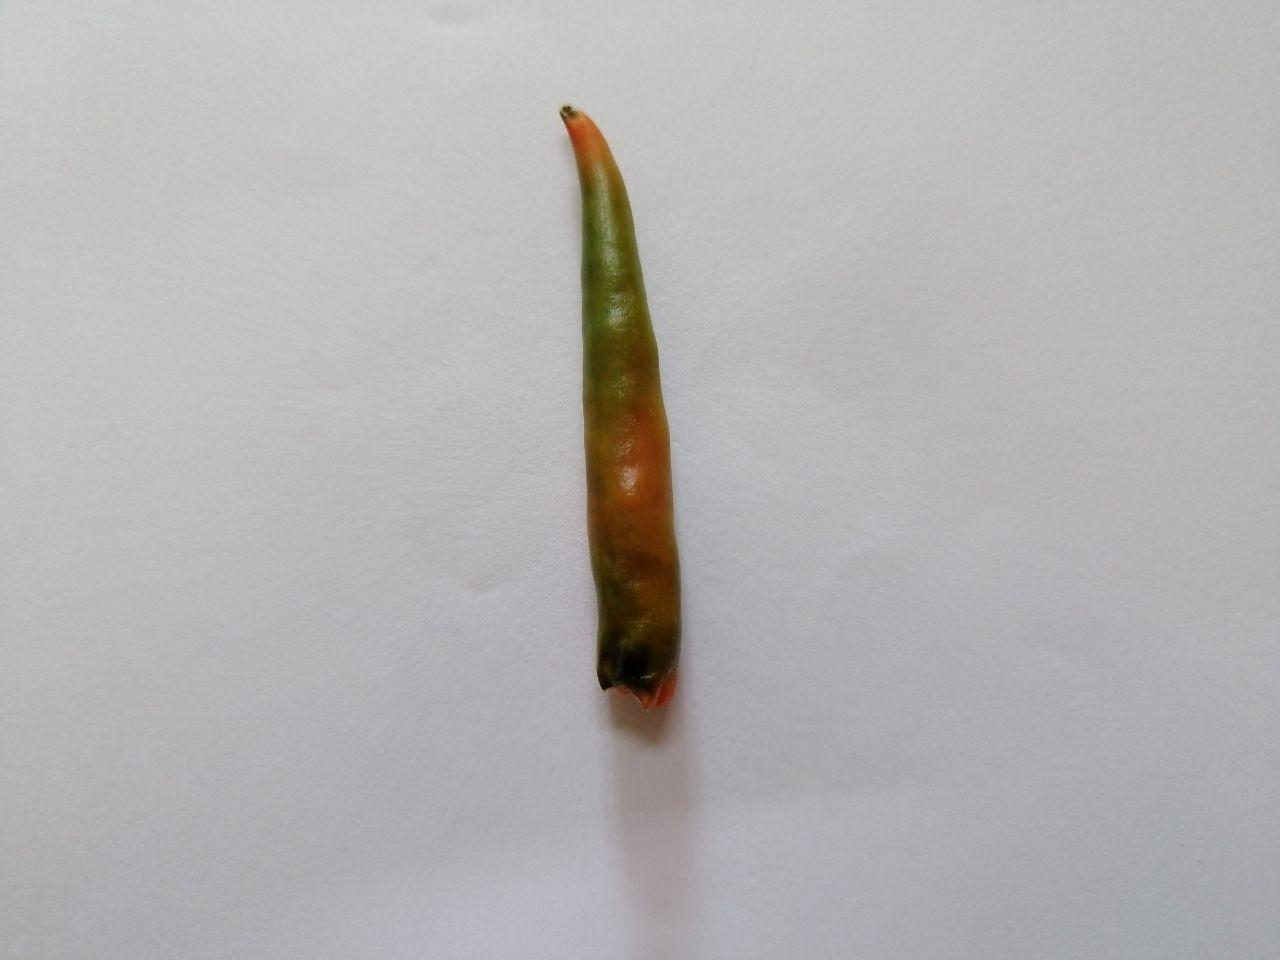lada kuning: (527, 78, 727, 747)
